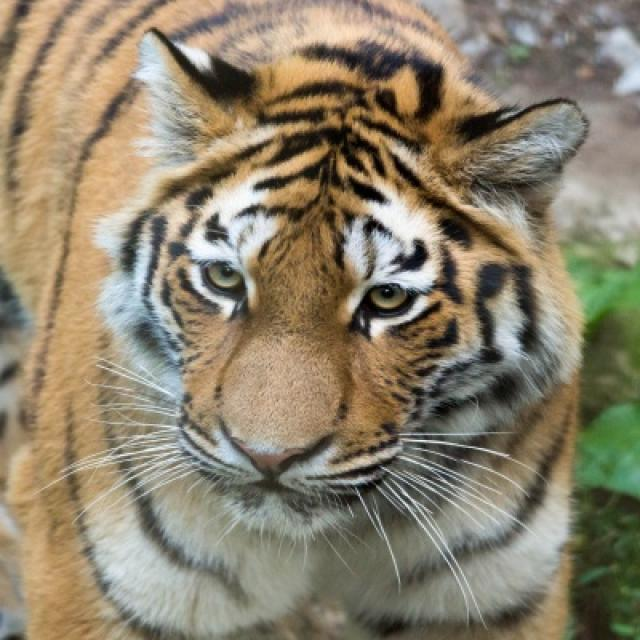Tiger: (117, 31, 588, 604)
